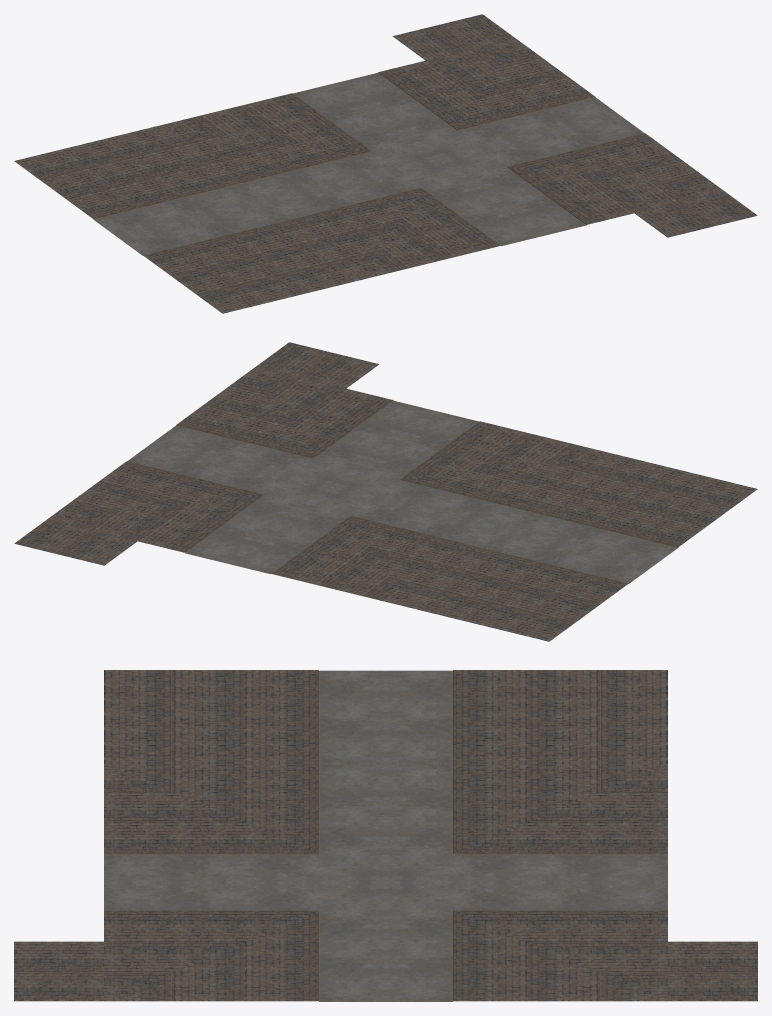
The model's file is hutong_courtyard_floor.fbx.
3 views of the same model, one above another, from view 1: azimuth 30°, elevation 25°; view 2: azimuth 150°, elevation 25°; view 3: azimuth 270°, elevation 25° (orthographic). The views are drawn at different scales.
Visible parts, largest first — view 1: hutong_courtyard_floor; view 2: hutong_courtyard_floor; view 3: hutong_courtyard_floor.
Part boxes in pixels (x1,y1,x2,y2): hutong_courtyard_floor: (14,14,757,313); hutong_courtyard_floor: (14,342,757,641); hutong_courtyard_floor: (14,670,757,1001).
Bounding box in the file's own units: 2223 × 2 × 2111.
1 material, 1 textured.
